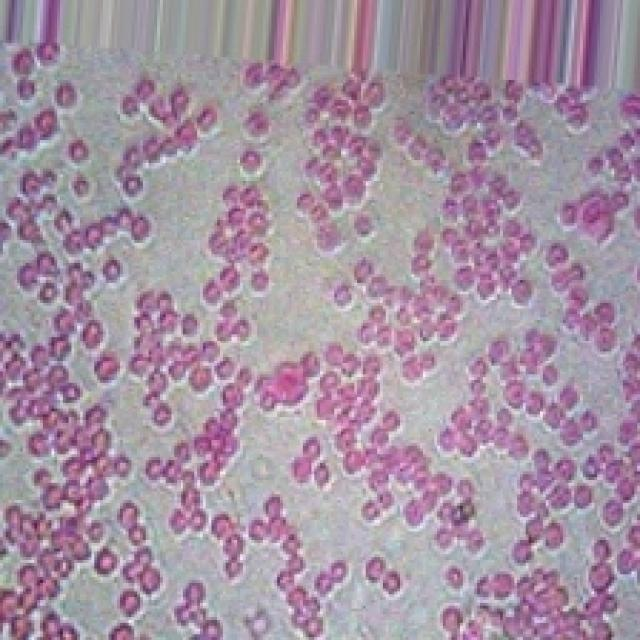Spherical_bacteria: (0, 34, 637, 637)
